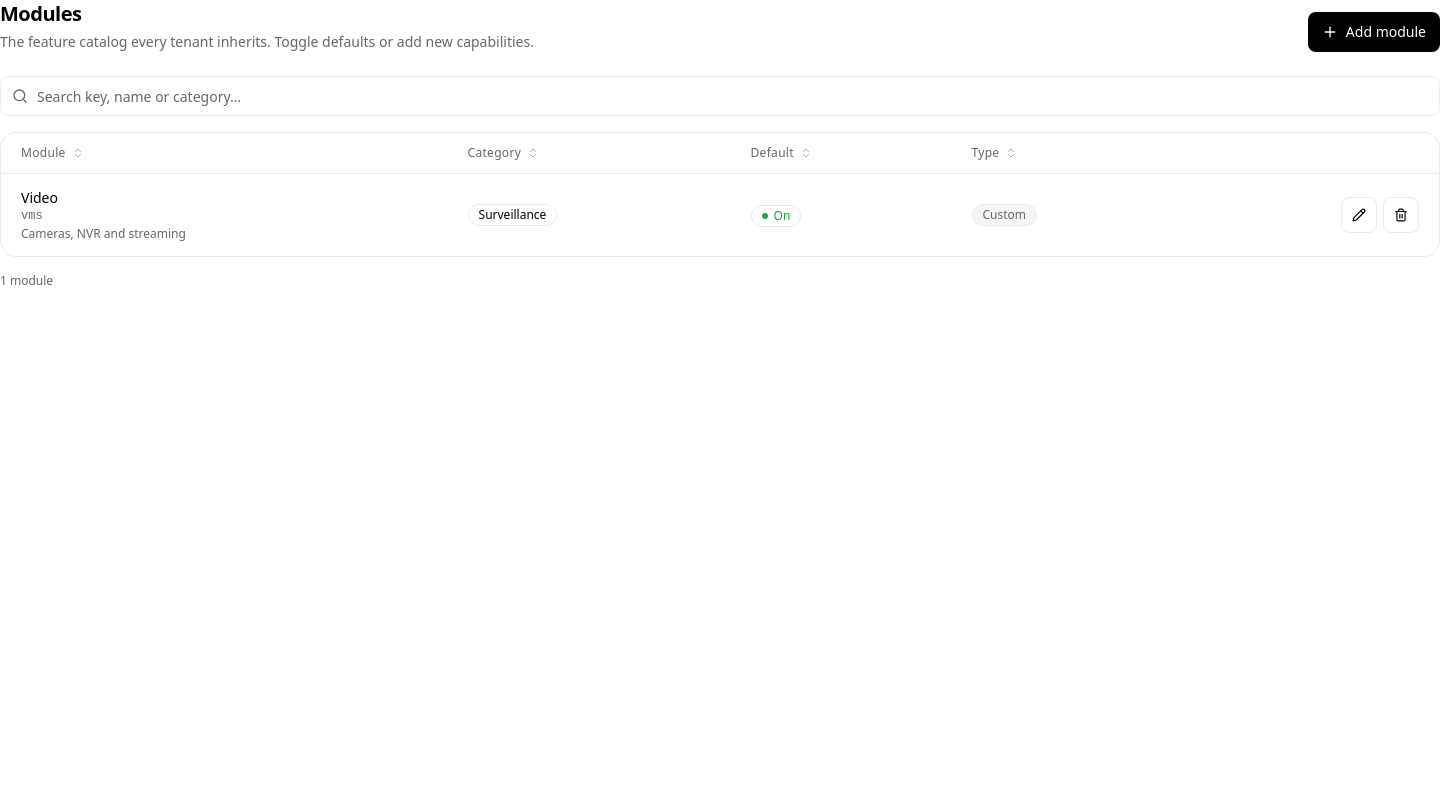
module catalog › locks the key when editing — the key is the tenant-side identity
The image size is (1440, 810).
Click the button named "edit" at (1359, 215), box [1341, 197, 1377, 233]
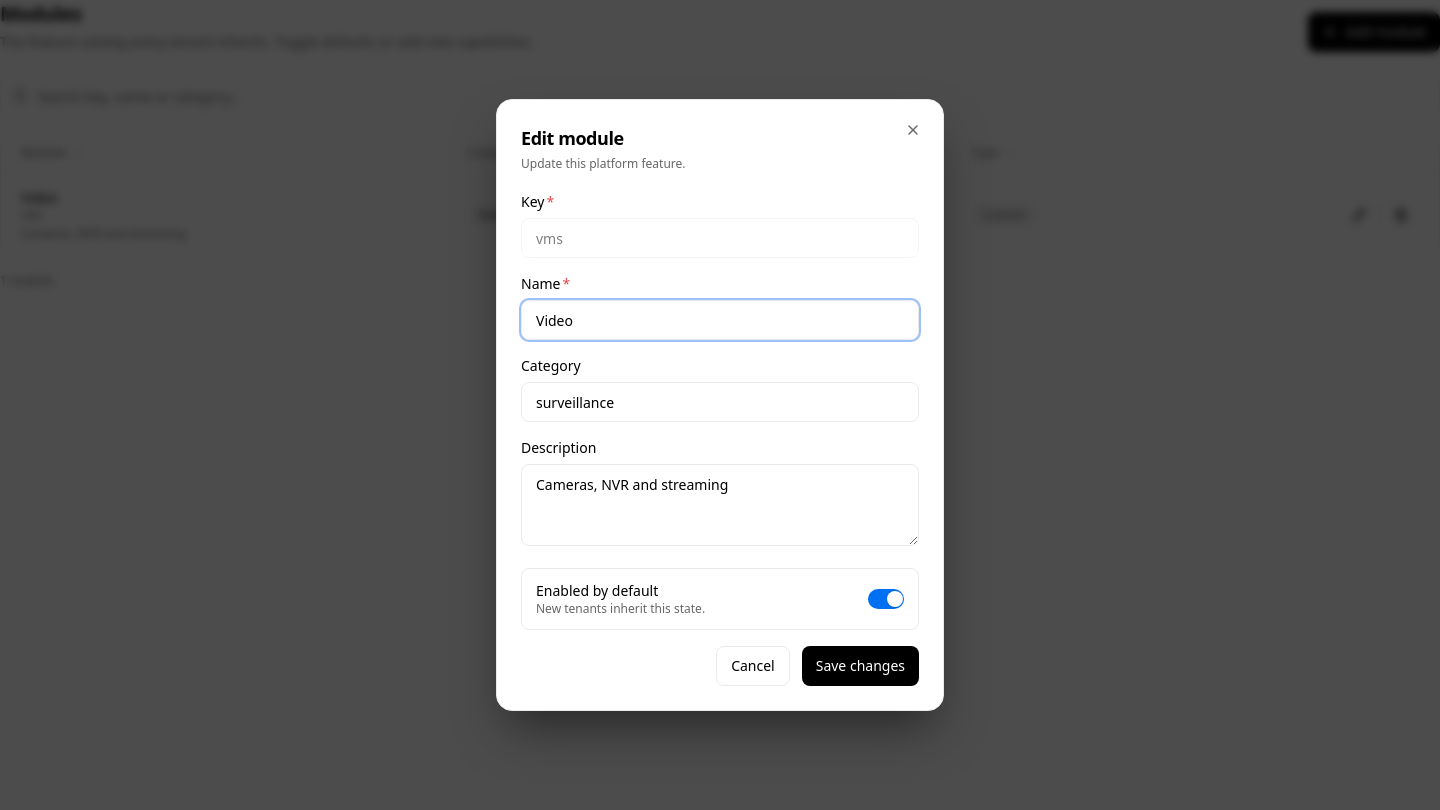
Check: the field showing "vms" is disabled, box [521, 218, 919, 258]
Check: the field showing "Video" is enabled, box [521, 300, 919, 340]
